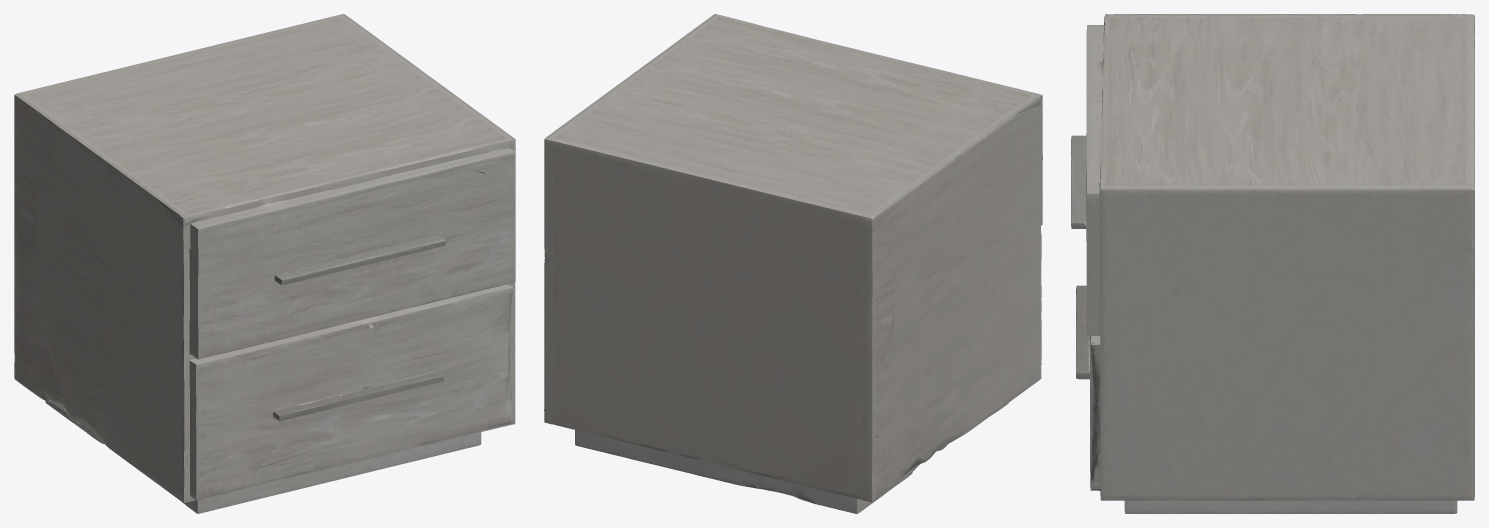
Rendered from caravanafurniture-com-products-whitewash-oak-contemporary-ni-716c82.glb.
3 views of the same model, side by side, from view 1: azimuth 30°, elevation 25°; view 2: azimuth 150°, elevation 25°; view 3: azimuth 270°, elevation 25° (orthographic). The views are drawn at different scales.
Visible parts, largest first — view 1: Mesh_0; view 2: Mesh_0; view 3: Mesh_0.
Boxes of the visible parts, x1=… form: Mesh_0: x1=14, y1=14, x2=515, y2=513; Mesh_0: x1=544, y1=14, x2=1042, y2=513; Mesh_0: x1=1071, y1=14, x2=1474, y2=513.
Bounding box in the file's own units: 1.9 × 1.7 × 1.85.
Materials: 1 (1 with a texture image).
